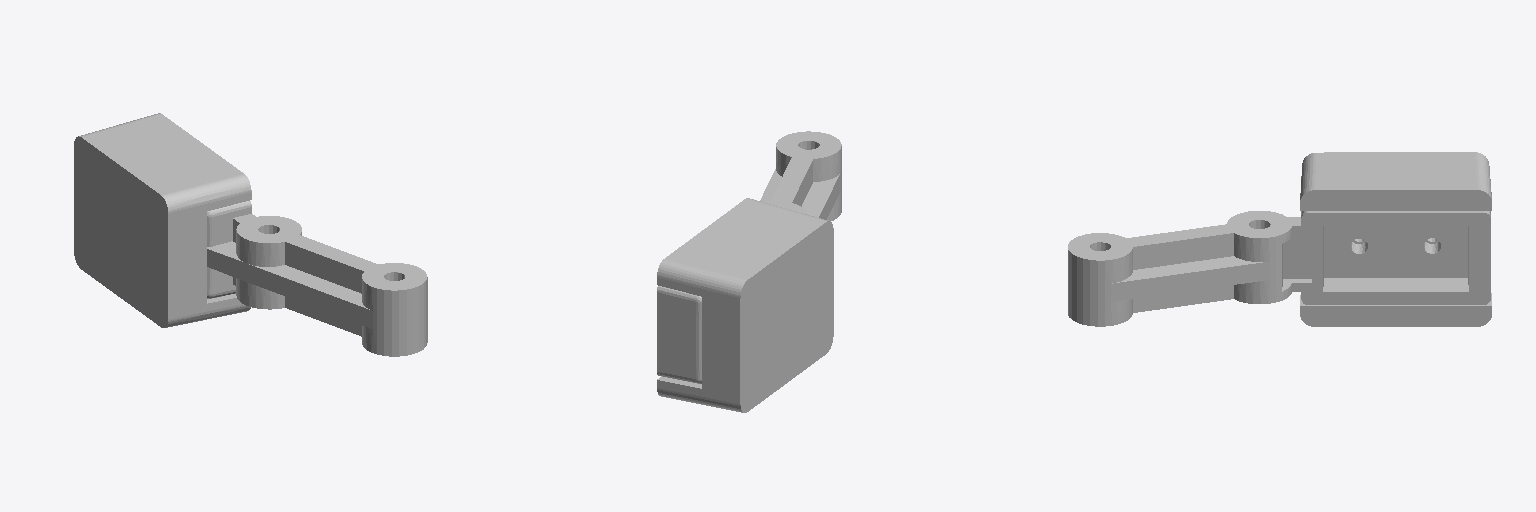
File: gripper_right1.obj
3 views of the same model, side by side, from view 1: azimuth 30°, elevation 25°; view 2: azimuth 150°, elevation 25°; view 3: azimuth 270°, elevation 25° (orthographic).
Size of the model in its own units: 0.0244 by 0.0207 by 0.0582.